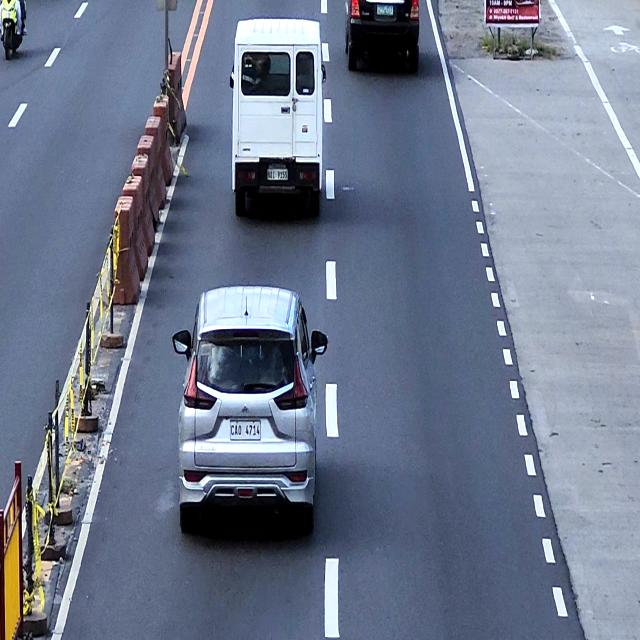Car: (172, 286, 329, 544), (231, 16, 325, 224), (345, 0, 420, 75)
License-Plate: (230, 421, 261, 440), (267, 168, 288, 181), (376, 4, 394, 16)
Motorcycle: (0, 0, 23, 61)
